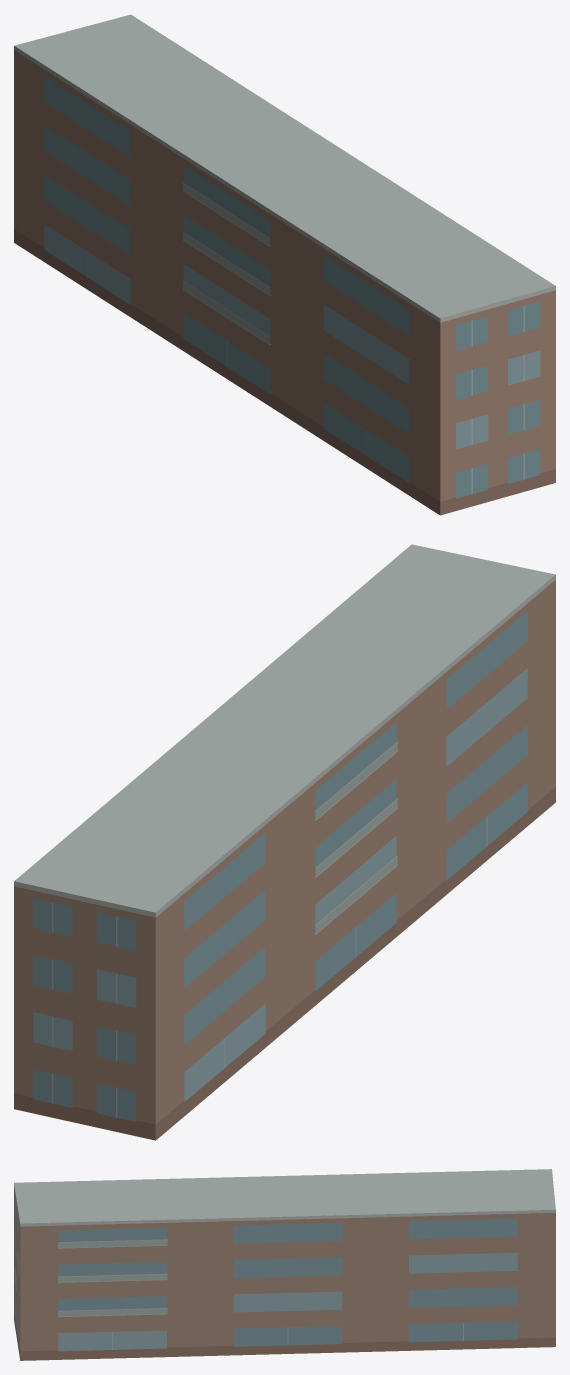
The model's file is survey-upis-32700524.glb.
3 renders of one model, top to bottom at view 1: azimuth 30°, elevation 25°; view 2: azimuth 150°, elevation 25°; view 3: azimuth 270°, elevation 25°, orthographic. The views are drawn at different scales.
Parts seen in each view (by area): view 1: survey-upis-32700524.tmp; view 2: survey-upis-32700524.tmp; view 3: survey-upis-32700524.tmp.
Boxes of the visible parts, x1=… form: survey-upis-32700524.tmp: x1=14, y1=14, x2=555, y2=515; survey-upis-32700524.tmp: x1=14, y1=544, x2=555, y2=1140; survey-upis-32700524.tmp: x1=14, y1=1169, x2=555, y2=1360.
Bounding box in the file's own units: 9.38 × 11 × 39.37.
